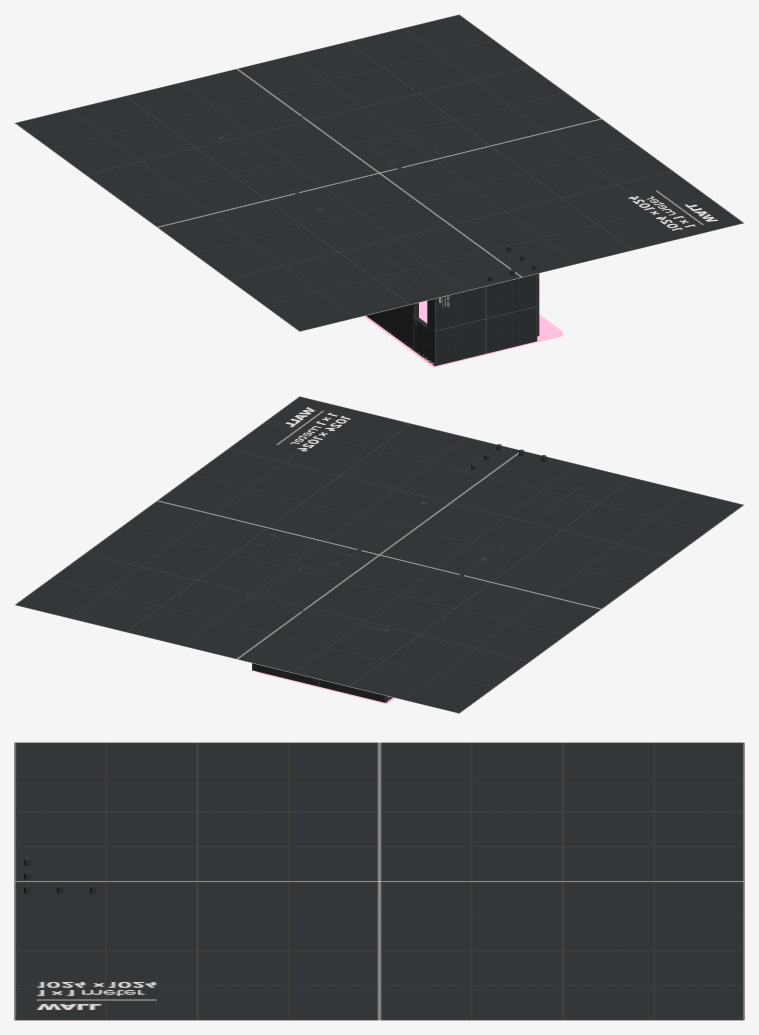
Rendered from scenario.gltf.
3 renders of one model, top to bottom at view 1: azimuth 30°, elevation 25°; view 2: azimuth 150°, elevation 25°; view 3: azimuth 270°, elevation 25°, orthographic. The views are drawn at different scales.
Parts seen in each view (by area): view 1: roof2, wall102, wall2, lava2, wall112; view 2: roof2, wall72, wall2, wall82; view 3: roof2.
Boxes of the visible parts, x1=… form: roof2: x1=14, y1=14, x2=744, y2=331; wall102: x1=432, y1=270, x2=537, y2=366; wall2: x1=219, y1=137, x2=418, y2=350; lava2: x1=364, y1=301, x2=562, y2=367; wall112: x1=414, y1=317, x2=432, y2=363; roof2: x1=14, y1=396, x2=744, y2=713; wall72: x1=252, y1=598, x2=388, y2=702; wall2: x1=384, y1=487, x2=582, y2=700; wall82: x1=349, y1=449, x2=496, y2=556; roof2: x1=14, y1=742, x2=744, y2=1020.
Size of the model in its own units: 100 by 16.5 by 111.
Materials: 4 (4 with a texture image).
